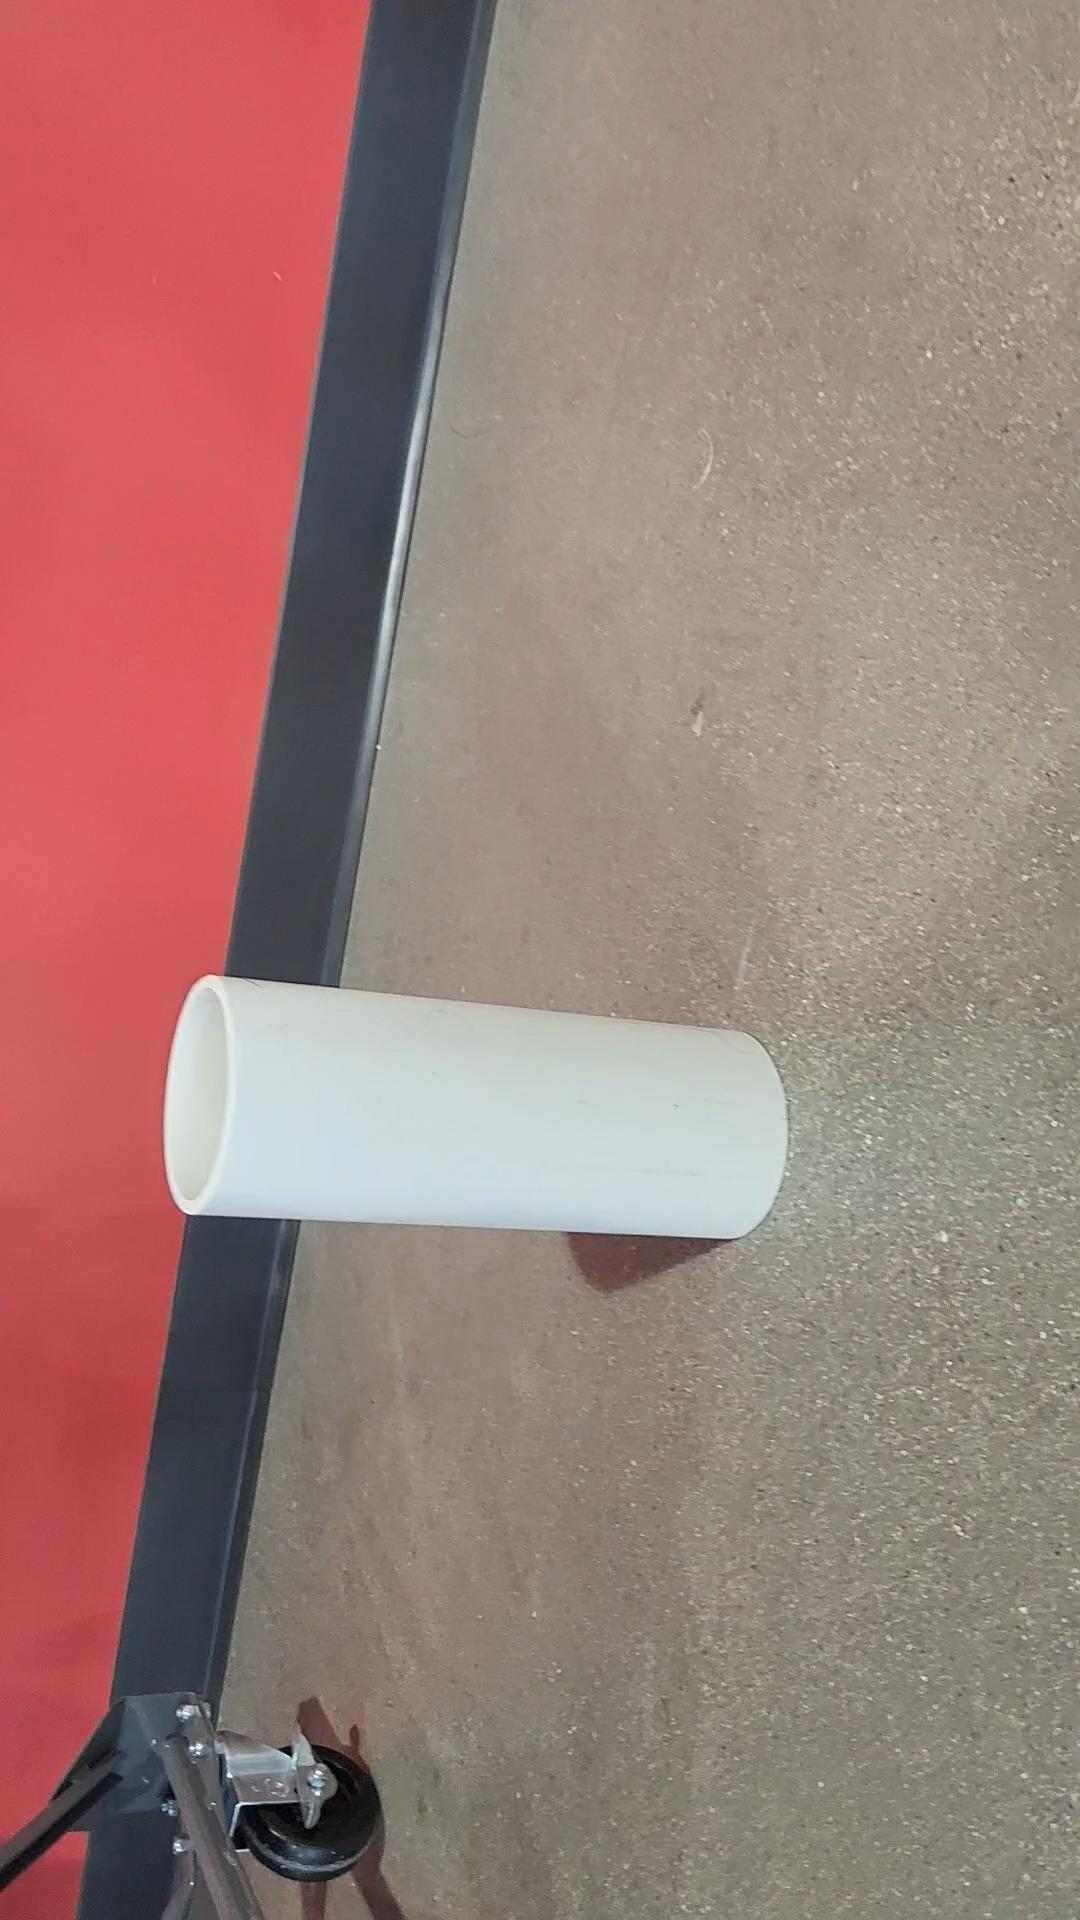coral: (164, 971, 796, 1240)
